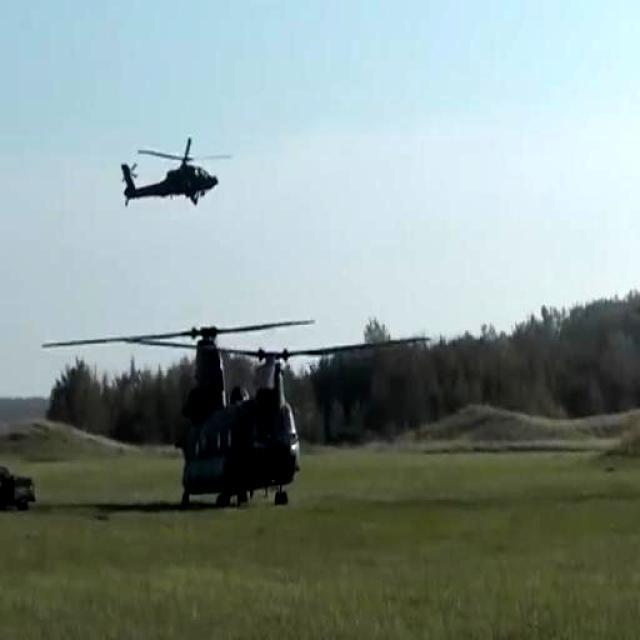drone: (39, 312, 435, 511), (116, 134, 235, 212)
